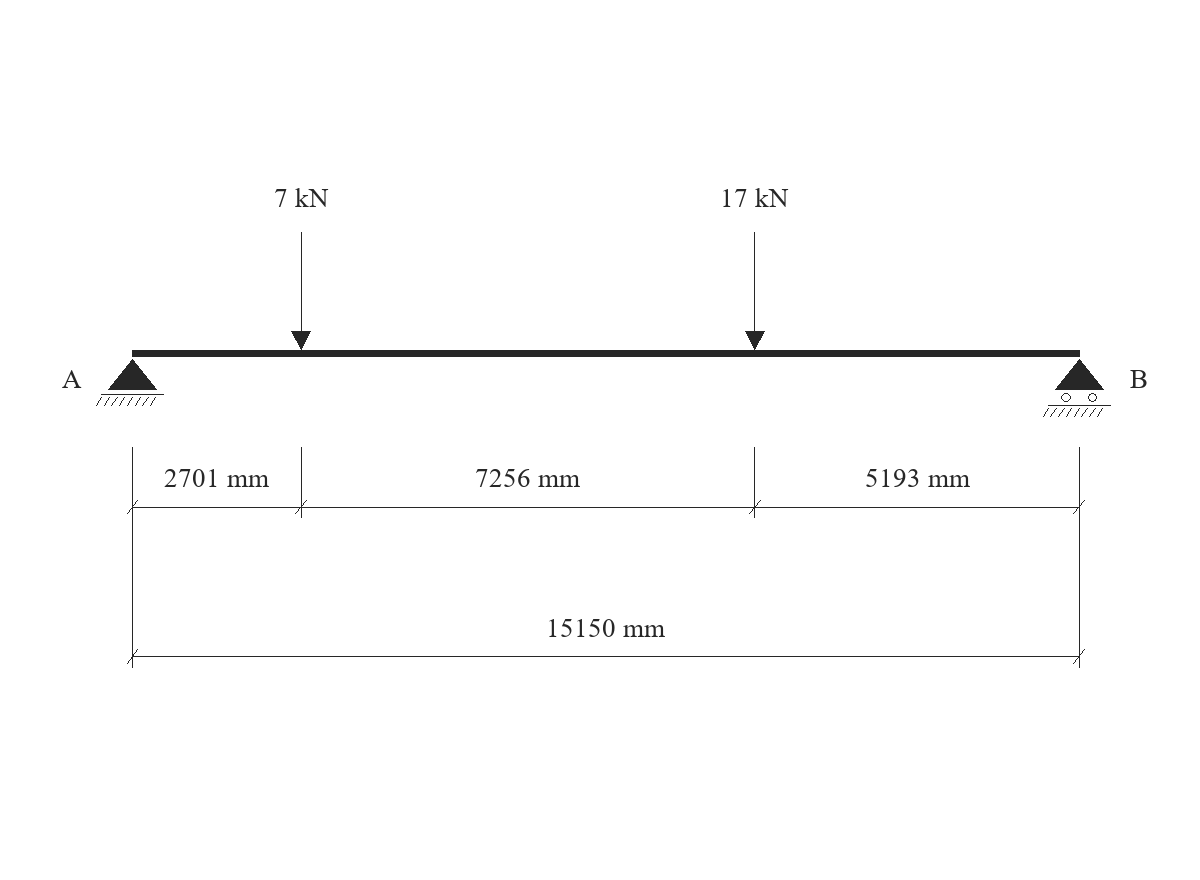pin_support: (96, 359, 164, 406)
point_load: (291, 232, 311, 350), (745, 232, 765, 350)
roller_support: (1043, 359, 1111, 417)
